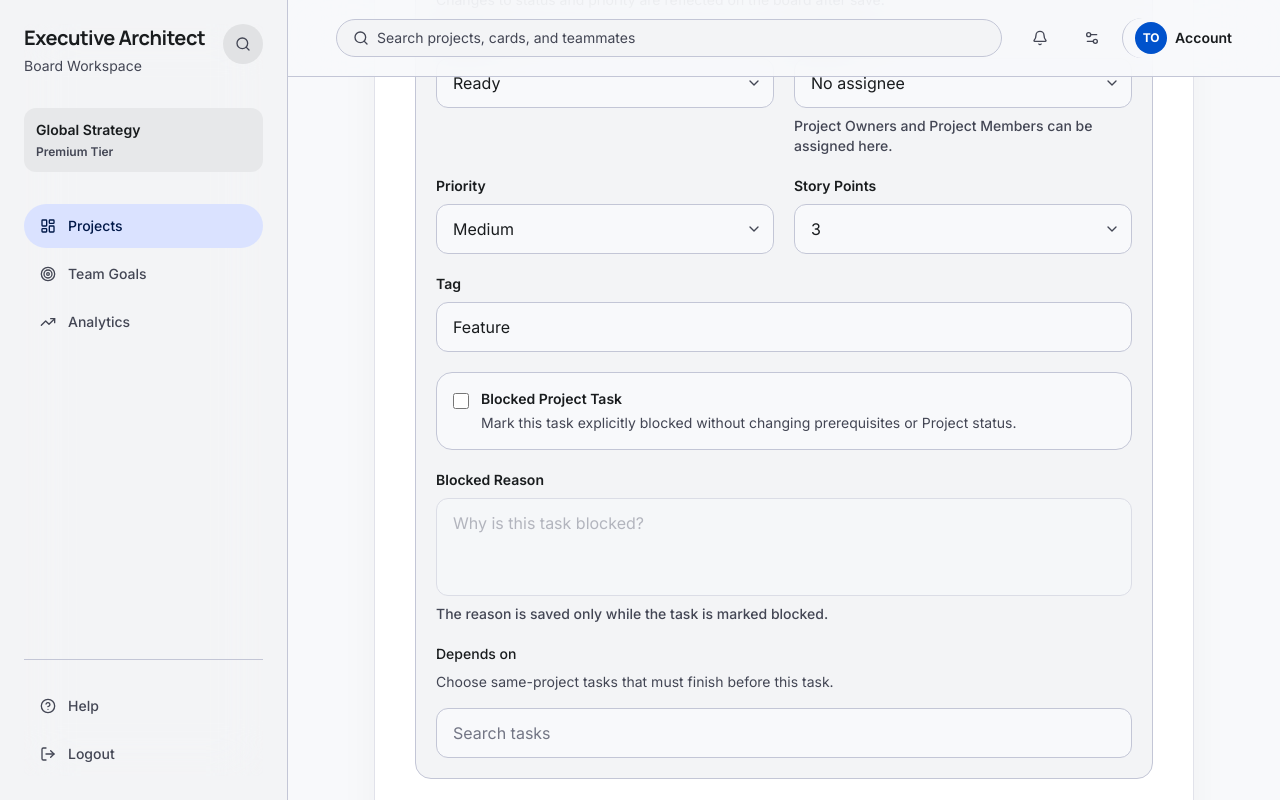
Scenario: TaskDetailPage › saves explicit blocked marker and reason from task details
(page scrolled)
Expected: the text box labelled "Blocked Reason" is disabled, [436,498,1132,596]
Click the checkbox labelled "Blocked Project Task" at (461, 401), box [453,393,469,409]
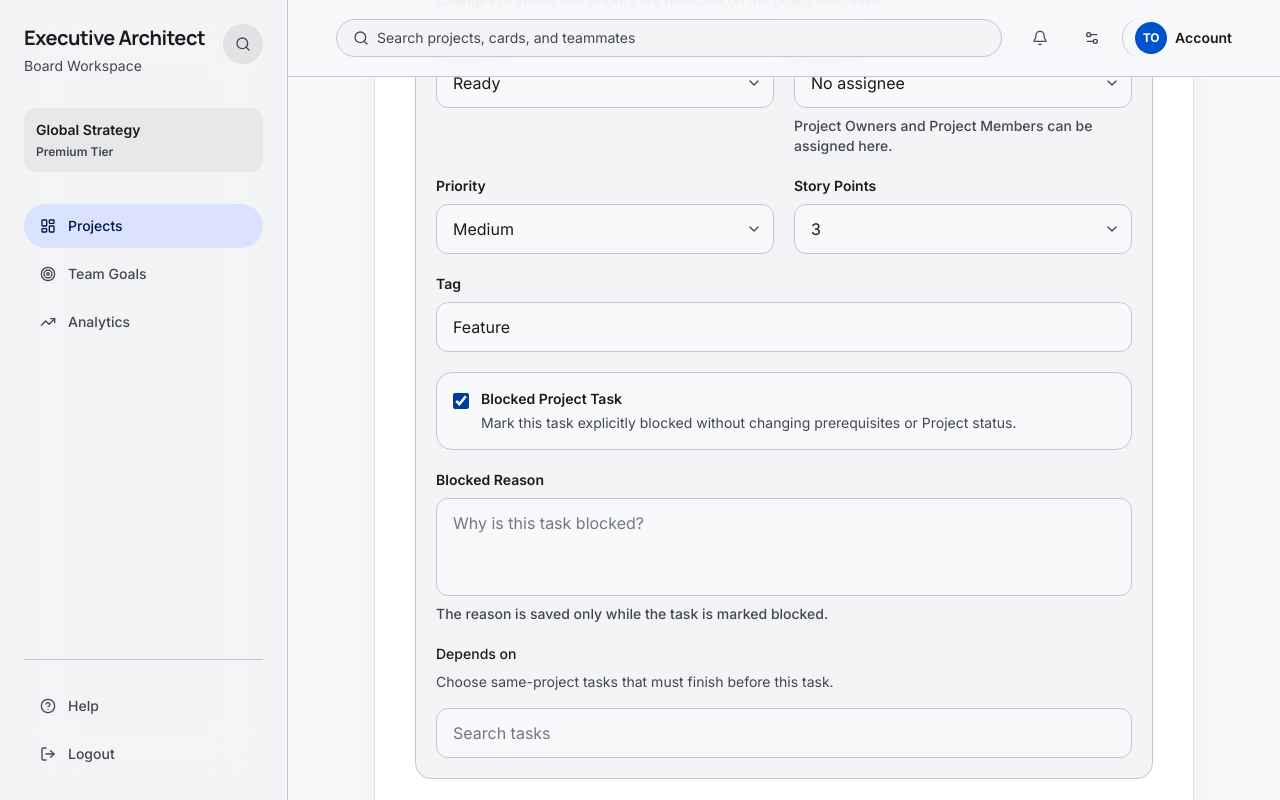
Type "Waiting on vendor access" into the text box labelled "Blocked Reason" at (784, 547), box [436,498,1132,596]
(page scrolled)
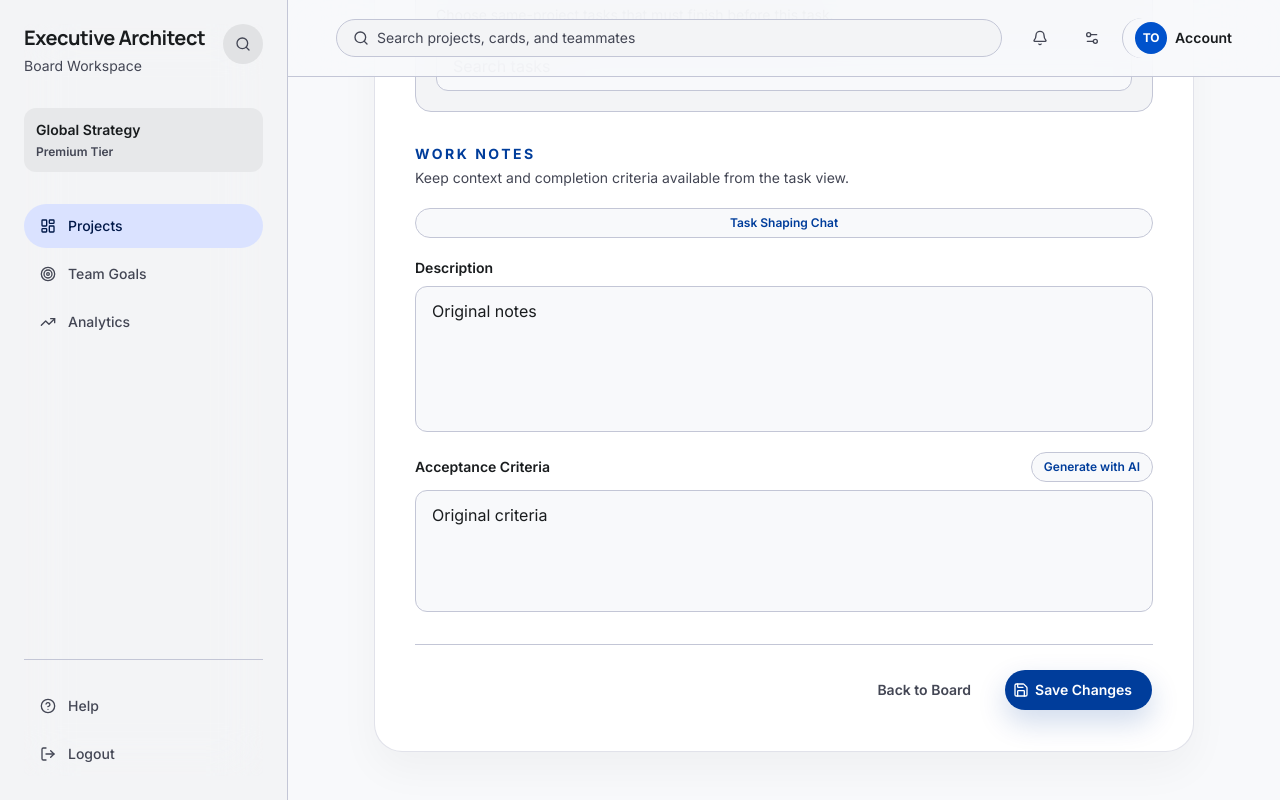
Click the button "Save Changes" at (1079, 690), box [1004,669,1153,711]
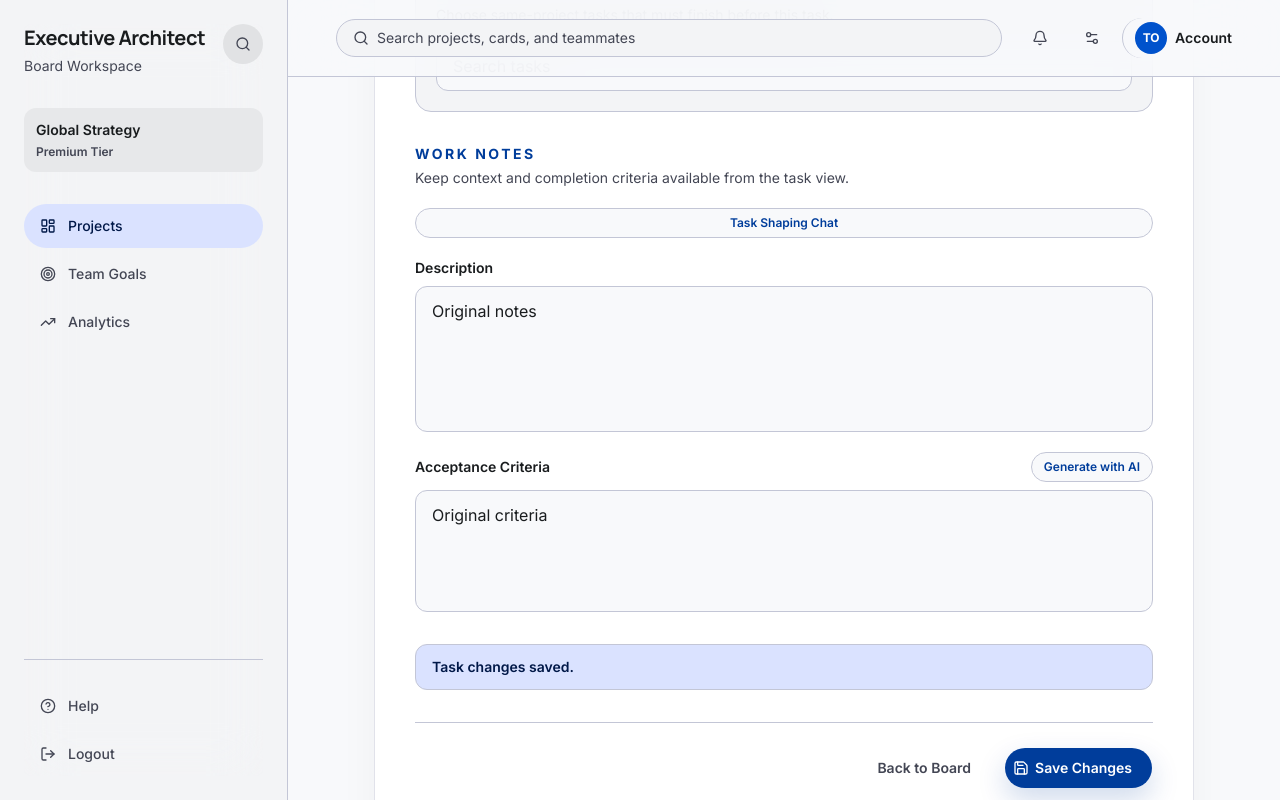
Expected: the text "Task changes saved." is shown, [415,644,1153,690]
